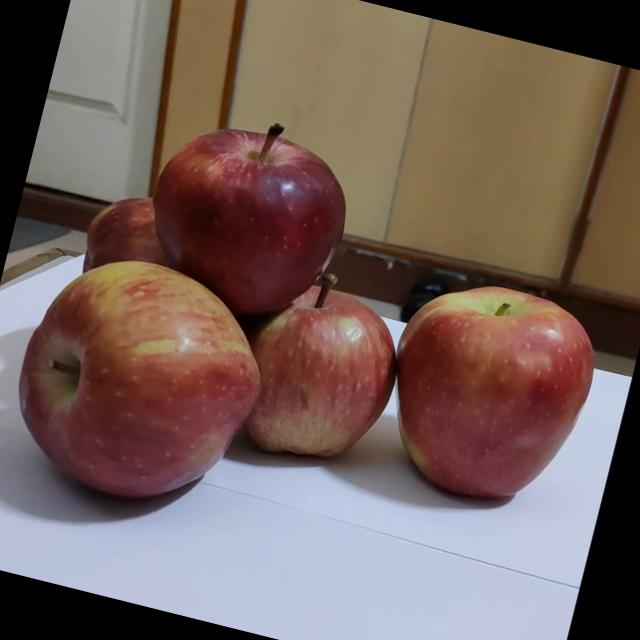apple: (0, 282, 299, 585), (352, 269, 640, 574), (126, 118, 389, 384), (212, 288, 436, 525), (43, 206, 264, 388)
